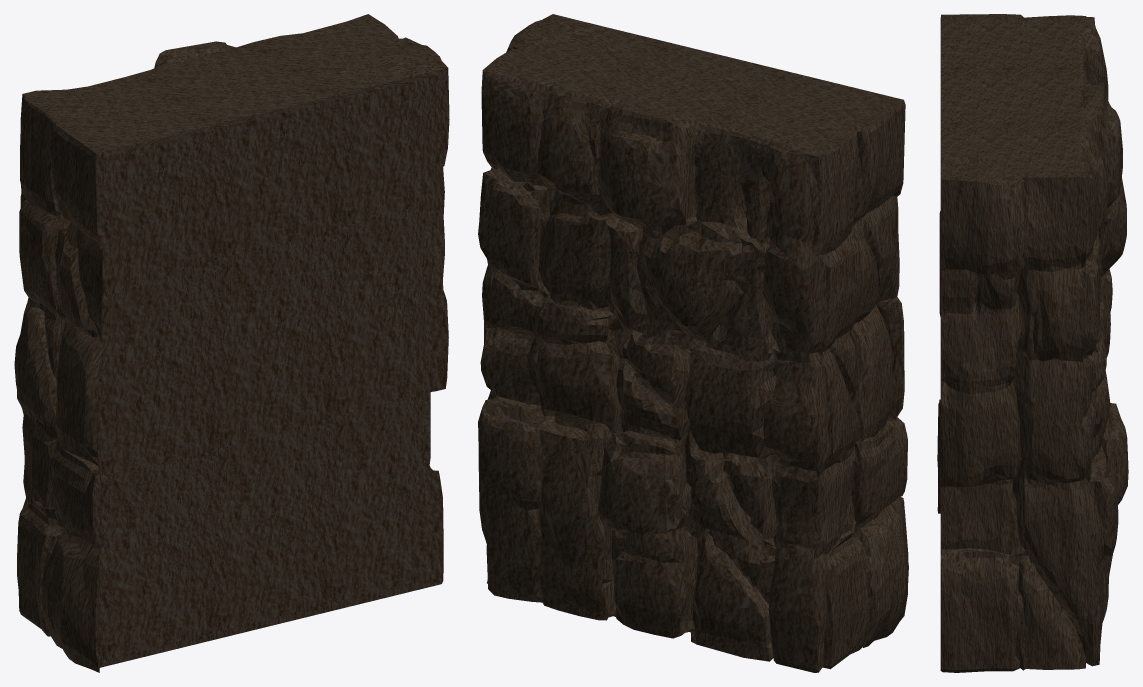
File: cave-wall3_bkp2.glb
3 views of the same model, side by side, from view 1: azimuth 30°, elevation 25°; view 2: azimuth 150°, elevation 25°; view 3: azimuth 270°, elevation 25° (orthographic). The views are drawn at different scales.
Visible parts, largest first — view 1: Cube.002; view 2: Cube.002; view 3: Cube.002.
Boxes of the visible parts, <box> form: Cube.002: <box>14,14,449,672</box>; Cube.002: <box>478,14,908,672</box>; Cube.002: <box>937,14,1128,672</box>.
Size of the model in its own units: 4.72 by 6.14 by 2.1.
1 material, 1 textured.
